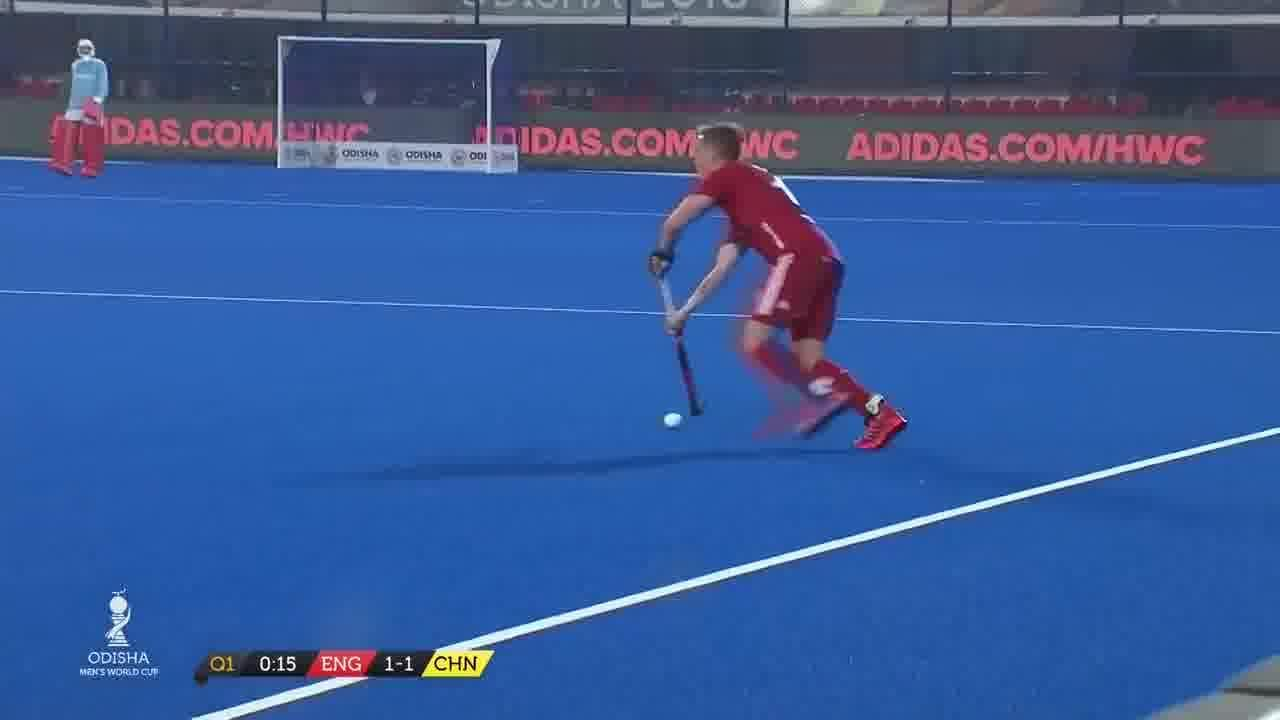ball: (662, 411, 681, 433)
